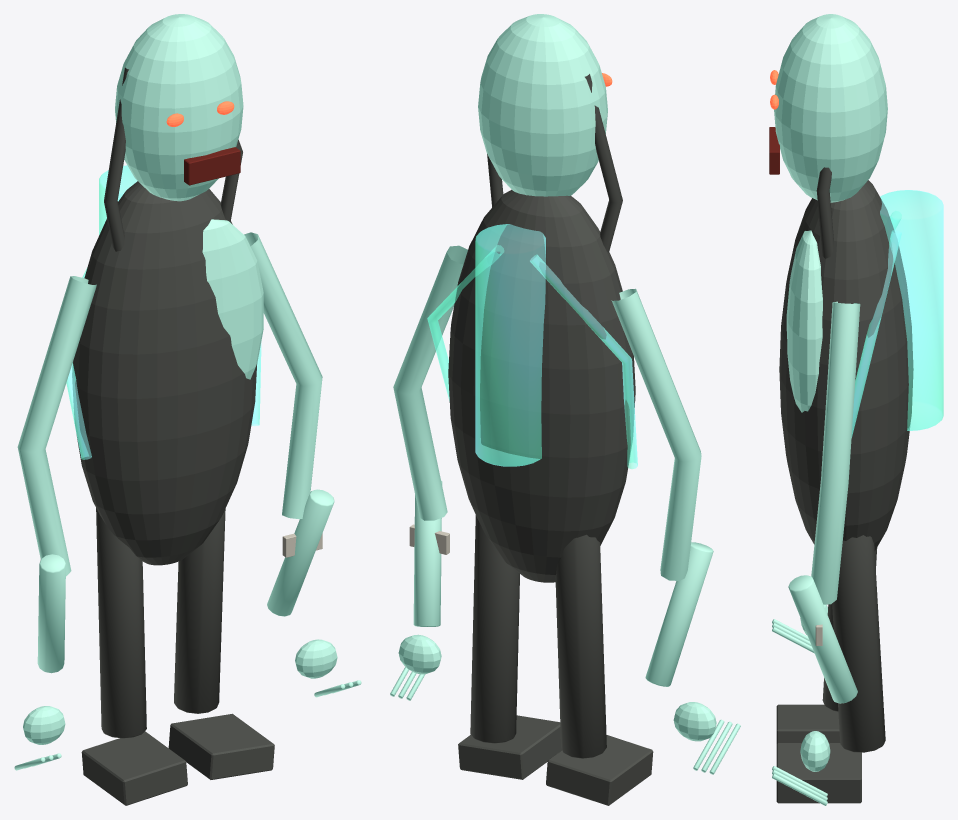
File: dz_enemy_lab_female_A.glb
3 renders of one model, left to right at view 1: azimuth 30°, elevation 25°; view 2: azimuth 150°, elevation 25°; view 3: azimuth 270°, elevation 25°, orthographic.
Parts seen in each view (by area): view 1: dz_torso_core, dz_head_forward, dz_limb_leg_L, dz_limb_arm_L, dz_limb_leg_R, dz_limb_arm_R, dz_chest_infected_growth, dz_foot_drag_L, dz_foot_drag_R, dz_limb_forearm_R, dz_limb_forearm_L, dz_hair_clump_left (+6 smaller); view 2: dz_torso_core, dz_head_forward, dz_back_lab_tank, dz_limb_leg_L, dz_limb_leg_R, dz_limb_arm_L, dz_limb_arm_R, dz_foot_drag_L, dz_foot_drag_R, dz_limb_forearm_L, dz_limb_forearm_R, dz_lab_tube_left (+4 smaller); view 3: dz_torso_core, dz_head_forward, dz_back_lab_tank, dz_limb_leg_R, dz_limb_arm_R, dz_chest_infected_growth, dz_foot_drag_R, dz_limb_forearm_R, dz_foot_drag_L, dz_lab_tube_right, dz_hair_clump_right, dz_hand_claw_R (+3 smaller).
Part boxes in pixels (<box>): dz_torso_core: <box>72,181,256,565</box>; dz_head_forward: <box>115,14,243,201</box>; dz_limb_leg_L: <box>96,508,146,738</box>; dz_limb_arm_L: <box>17,276,96,576</box>; dz_limb_leg_R: <box>174,509,225,713</box>; dz_limb_arm_R: <box>244,232,322,519</box>; dz_chest_infected_growth: <box>202,219,263,379</box>; dz_foot_drag_L: <box>81,731,187,805</box>; dz_foot_drag_R: <box>168,713,274,779</box>; dz_limb_forearm_R: <box>267,489,334,616</box>; dz_limb_forearm_L: <box>37,554,65,673</box>; dz_hair_clump_left: <box>104,67,128,251</box>; dz_torso_core: <box>448,189,635,582</box>; dz_head_forward: <box>478,14,607,196</box>; dz_back_lab_tank: <box>475,224,545,466</box>; dz_limb_leg_L: <box>555,534,606,758</box>; dz_limb_leg_R: <box>470,515,519,743</box>; dz_limb_arm_L: <box>611,288,701,580</box>; dz_limb_arm_R: <box>393,245,467,520</box>; dz_foot_drag_L: <box>546,735,653,805</box>; dz_foot_drag_R: <box>458,715,561,779</box>; dz_limb_forearm_L: <box>645,542,713,686</box>; dz_limb_forearm_R: <box>413,480,442,626</box>; dz_lab_tube_left: <box>530,255,637,468</box>; dz_torso_core: <box>779,180,913,550</box>; dz_head_forward: <box>774,14,887,202</box>; dz_back_lab_tank: <box>880,190,943,430</box>; dz_limb_leg_R: <box>832,535,885,752</box>; dz_limb_arm_R: <box>811,301,860,604</box>; dz_chest_infected_growth: <box>786,230,822,412</box>; dz_foot_drag_R: <box>776,743,861,803</box>; dz_limb_forearm_R: <box>788,575,857,703</box>; dz_foot_drag_L: <box>776,704,840,743</box>; dz_lab_tube_right: <box>851,230,901,437</box>; dz_hair_clump_right: <box>816,167,833,258</box>; dz_hand_claw_R: <box>800,731,830,771</box>.
Size of what is drawn, in the model's own units: 0.9565 by 2.14 by 0.4497.
